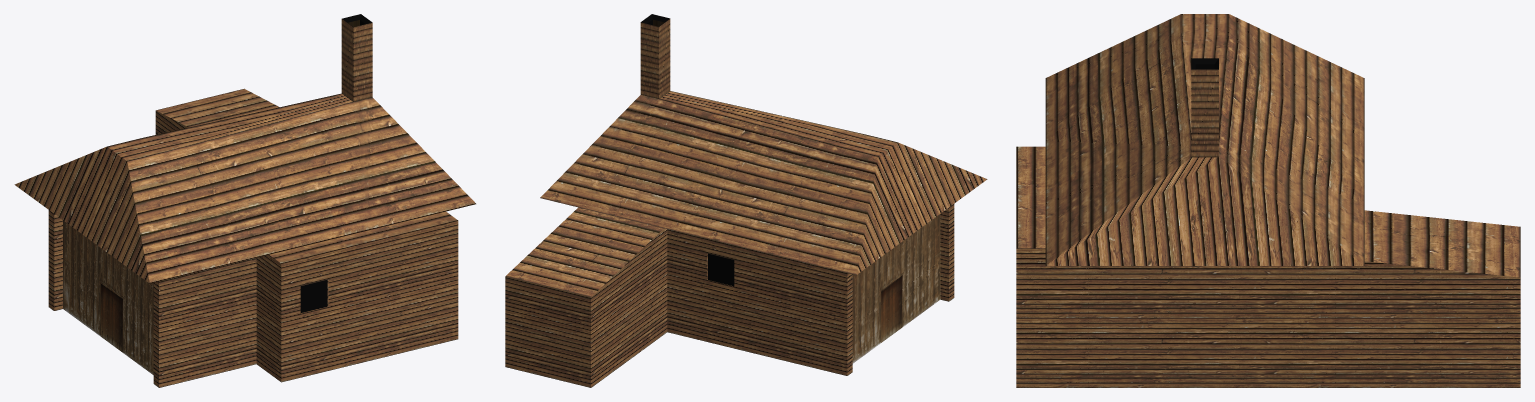
Rendered from wood_cabin.FBX.
The picture shows the model from 3 angles, left to right: view 1: azimuth 30°, elevation 25°; view 2: azimuth 150°, elevation 25°; view 3: azimuth 270°, elevation 25°; orthographic projection. The views are drawn at different scales.
Parts seen in each view (by area): view 1: wood_cabin; view 2: wood_cabin; view 3: wood_cabin.
Boxes of the visible parts, box(x1,y1,x2,y2) form: wood_cabin: box(14, 14, 475, 387); wood_cabin: box(505, 14, 987, 387); wood_cabin: box(1016, 14, 1520, 387).
Bounding box in the file's own units: 126 × 97.47 × 143.
